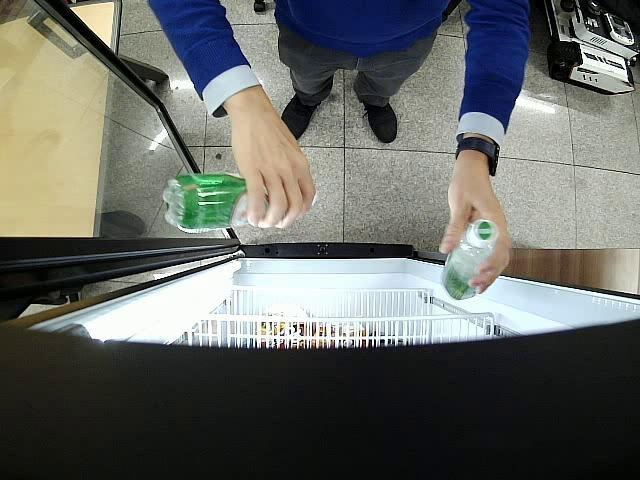18_trevi: (163, 177, 270, 232), (440, 218, 500, 301)
